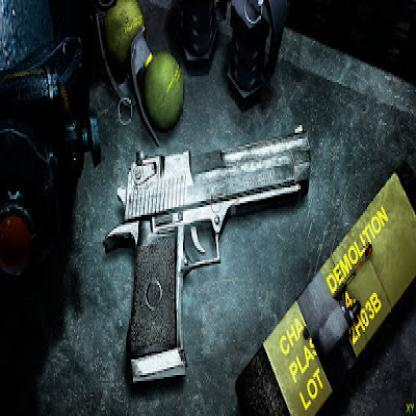Grenade: (93, 1, 146, 127), (226, 0, 283, 111), (129, 23, 185, 131), (181, 0, 220, 74)
Pistol: (103, 121, 312, 385)
